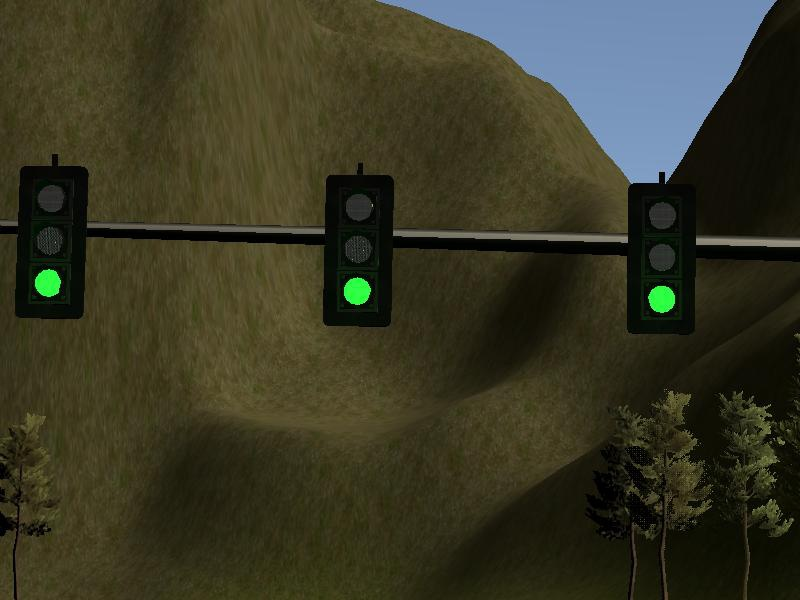green_light: (327, 178, 389, 325), (632, 187, 694, 330), (22, 169, 81, 315)
